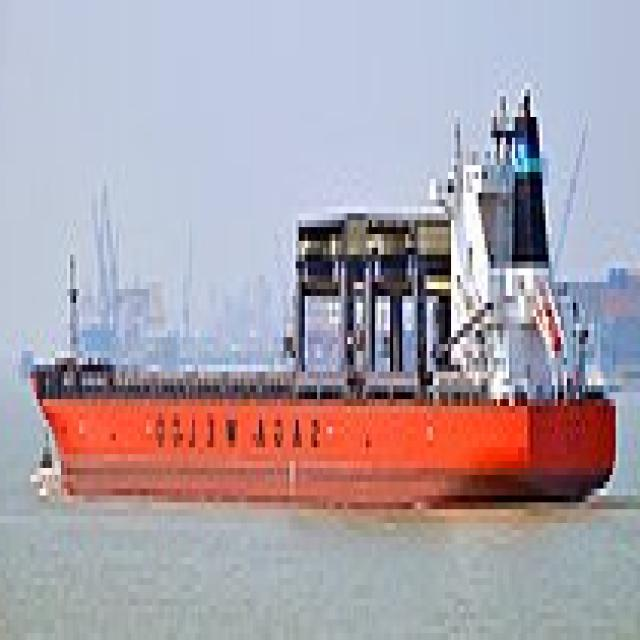Cargo: (27, 76, 622, 509)
